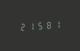eight: (45, 19, 53, 30)
five: (36, 20, 44, 30)
one: (27, 20, 35, 31), (54, 19, 62, 29)
two: (18, 21, 26, 31)
